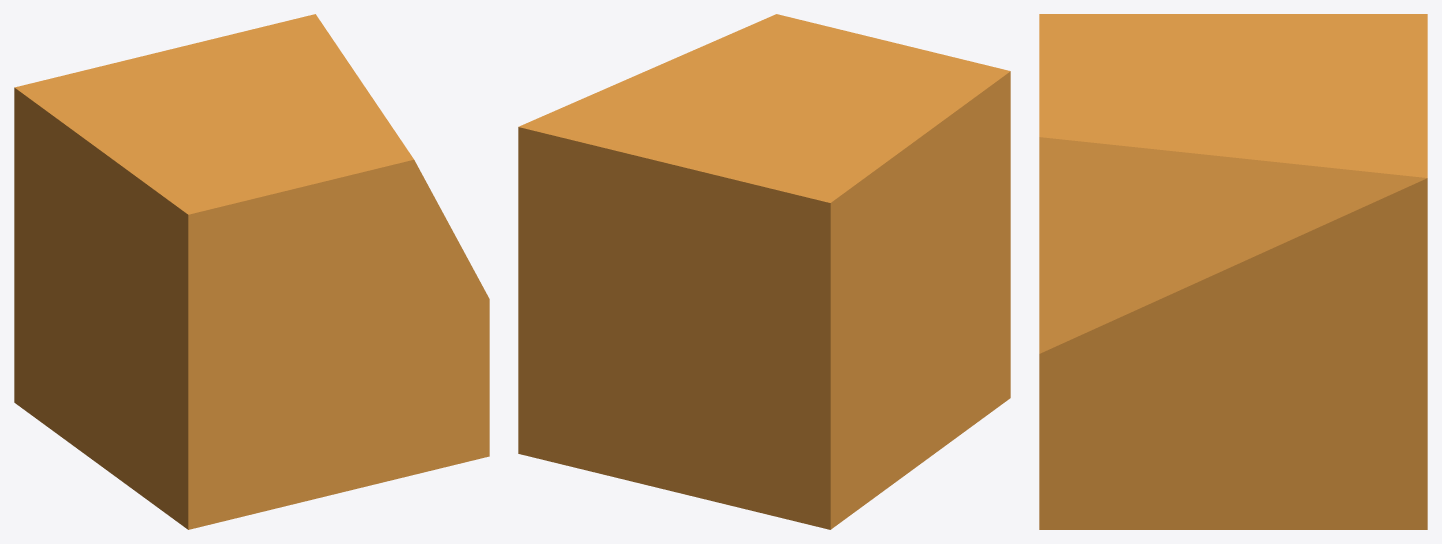
The model's file is r5c4_body_orange.gltf.
3 views of the same model, side by side, from view 1: azimuth 30°, elevation 25°; view 2: azimuth 150°, elevation 25°; view 3: azimuth 270°, elevation 25° (orthographic). The views are drawn at different scales.
Visible parts, largest first — view 1: r5c4_body_orange; view 2: r5c4_body_orange; view 3: r5c4_body_orange.
Boxes of the visible parts, left/top/right/bottom form: r5c4_body_orange: left=14, top=14, right=489, bottom=529; r5c4_body_orange: left=518, top=14, right=1010, bottom=529; r5c4_body_orange: left=1039, top=14, right=1427, bottom=529.
Size of what is drawn, in the model's own units: 2 by 2 by 2.
Materials: 1 (1 with a texture image).
